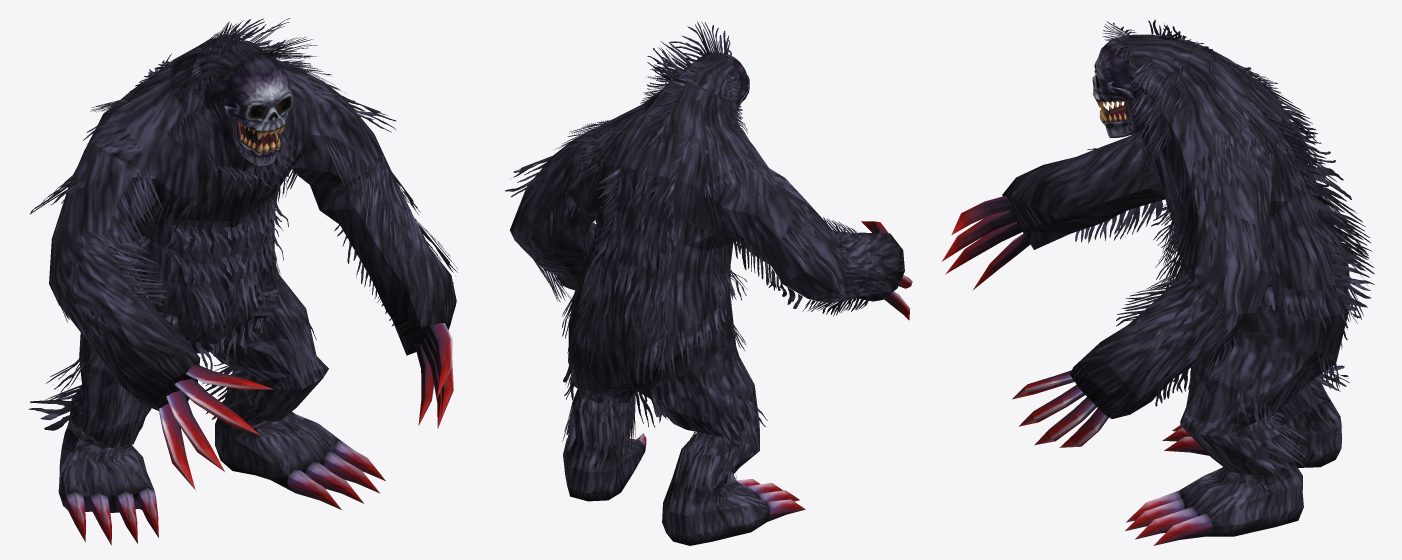
Rendered from Wendigo.fbx.
3 renders of one model, left to right at view 1: azimuth 30°, elevation 25°; view 2: azimuth 150°, elevation 25°; view 3: azimuth 270°, elevation 25°, orthographic. The views are drawn at different scales.
Visible parts, largest first — view 1: Body, Hair; view 2: Body, Hair; view 3: Body, Hair.
Part boxes in pixels (x1,y1,x2,y2): Body: (49, 38, 456, 545); Hair: (28, 18, 457, 451); Body: (510, 53, 912, 545); Hair: (505, 21, 887, 495); Body: (941, 34, 1350, 545); Hair: (1070, 19, 1374, 476).
Bounding box in the file's own units: 1234 × 1482 × 1270.
Materials: 1 (1 with a texture image).
